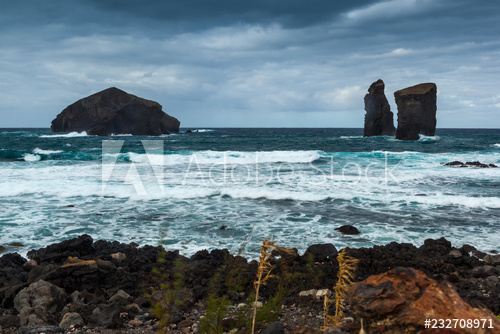volcanic_rock: (32, 260, 237, 329), (43, 79, 186, 139), (357, 257, 488, 316), (357, 67, 442, 151)
